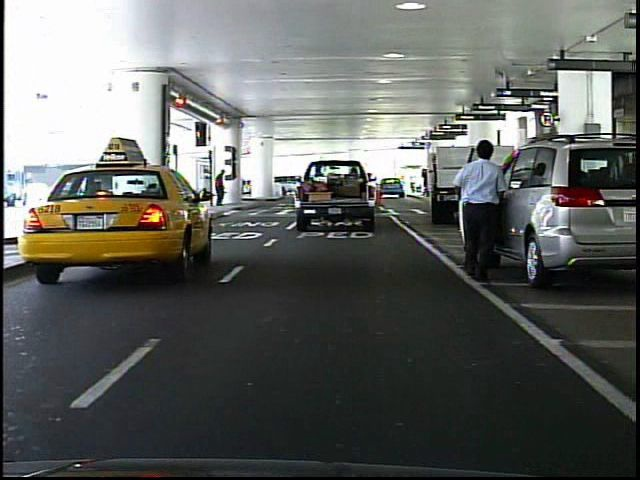person: (445, 132, 508, 287), (212, 166, 230, 208)
